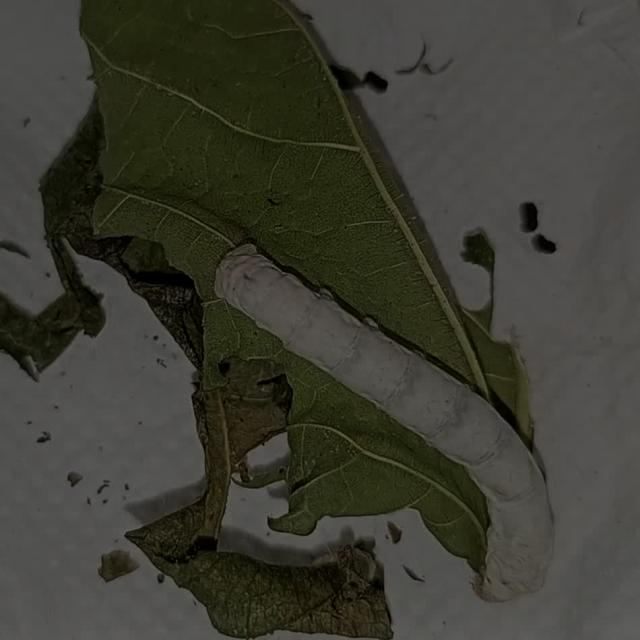Healthy: (178, 216, 591, 629)
